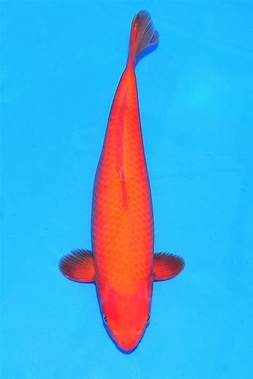red: (58, 10, 185, 353)
